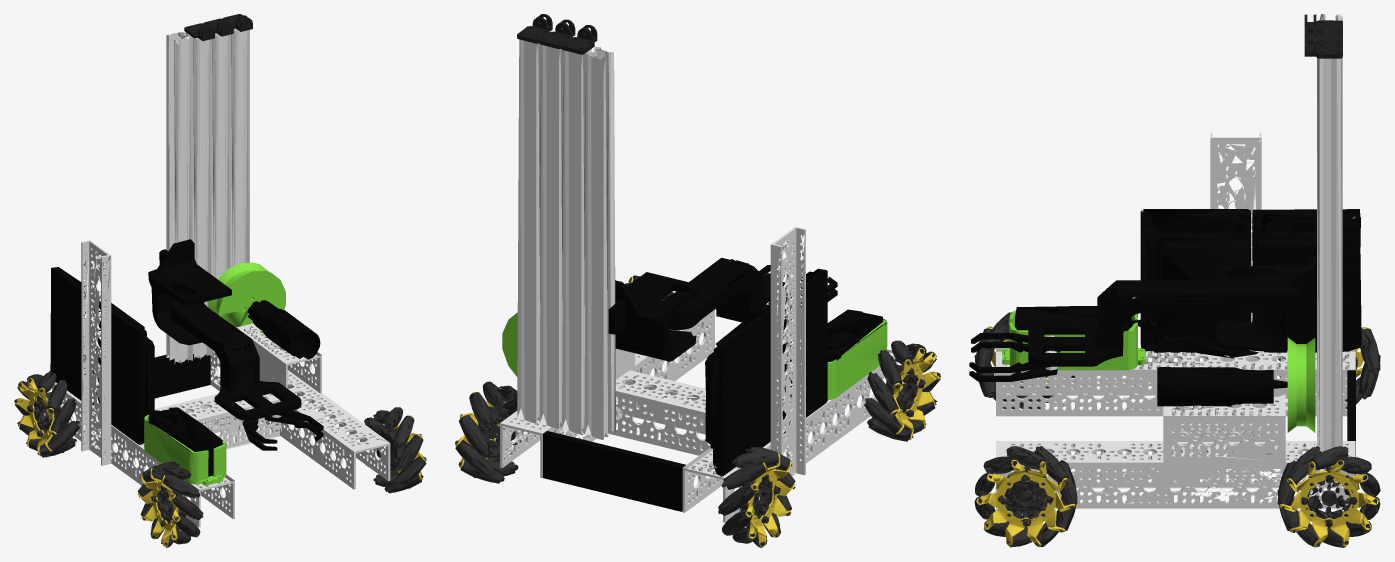
The model's file is robotNou.glb.
3 views of the same model, side by side, from view 1: azimuth 30°, elevation 25°; view 2: azimuth 150°, elevation 25°; view 3: azimuth 270°, elevation 25° (orthographic). The views are drawn at different scales.
Parts seen in each view (by area): view 1: channel baterie, glisiera.003, Gheara-sup, profil 13 gauri, REV-31-1153 v1.001, glisiera.002, glisiera.001, glisiera, Prindere-gh-de-gls, REV-31-1153 v1, RR, profil 13 gauri.001 (+11 smaller); view 2: glisiera.003, glisiera.002, glisiera, glisiera.001, REV-31-1153 v1, channel baterie, Plane.023, profil 6 gauri.001, Prindere-gh-de-gls, profil 13 gauri.001, Gheara-sup, RR (+12 smaller); view 3: profil 13 gauri, REV-31-1153 v1.001, profil 13 gauri.001, glisiera, Gheara-sup, REV-31-1153 v1, profil 6 gauri.002, Prindere-gh-de-gls, FL, RL, MotorMosor, channel baterie (+12 smaller).
Boxes of the visible parts, box(x1,y1,x2,y2) form: channel baterie: box(81, 240, 111, 465); glisiera.003: box(166, 32, 192, 364); Gheara-sup: box(170, 299, 301, 420); profil 13 gauri: box(210, 349, 390, 489); REV-31-1153 v1.001: box(95, 301, 154, 444); glisiera.002: box(185, 32, 211, 359); glisiera.001: box(212, 33, 230, 355); glisiera: box(231, 28, 249, 267); Prindere-gh-de-gls: box(148, 239, 231, 345); REV-31-1153 v1: box(50, 267, 95, 405); RR: box(14, 371, 79, 457); profil 13 gauri.001: box(52, 382, 234, 527); glisiera.003: box(584, 47, 615, 439); glisiera.002: box(562, 49, 591, 434); glisiera: box(517, 39, 541, 423); glisiera.001: box(539, 45, 563, 429); REV-31-1153 v1: box(705, 309, 770, 476); channel baterie: box(770, 226, 805, 476); Plane.023: box(543, 431, 685, 511); profil 6 gauri.001: box(608, 370, 710, 455); Prindere-gh-de-gls: box(608, 272, 701, 361); profil 13 gauri.001: box(682, 349, 897, 522); Gheara-sup: box(658, 258, 786, 330); RR: box(718, 446, 795, 547); profil 13 gauri: box(996, 441, 1355, 509); REV-31-1153 v1.001: box(1140, 209, 1250, 352); profil 13 gauri.001: box(996, 348, 1355, 416); glisiera: box(1317, 58, 1342, 452); Gheara-sup: box(1028, 280, 1260, 366); REV-31-1153 v1: box(1252, 209, 1361, 352); profil 6 gauri.002: box(1163, 394, 1285, 462); Prindere-gh-de-gls: box(1216, 257, 1316, 350); FL: box(974, 446, 1077, 547); RL: box(1277, 446, 1380, 547); MotorMosor: box(1157, 367, 1287, 406); channel baterie: box(1210, 132, 1261, 366).
Bounding box in the file's own units: 20.84 × 31.21 × 24.01.
